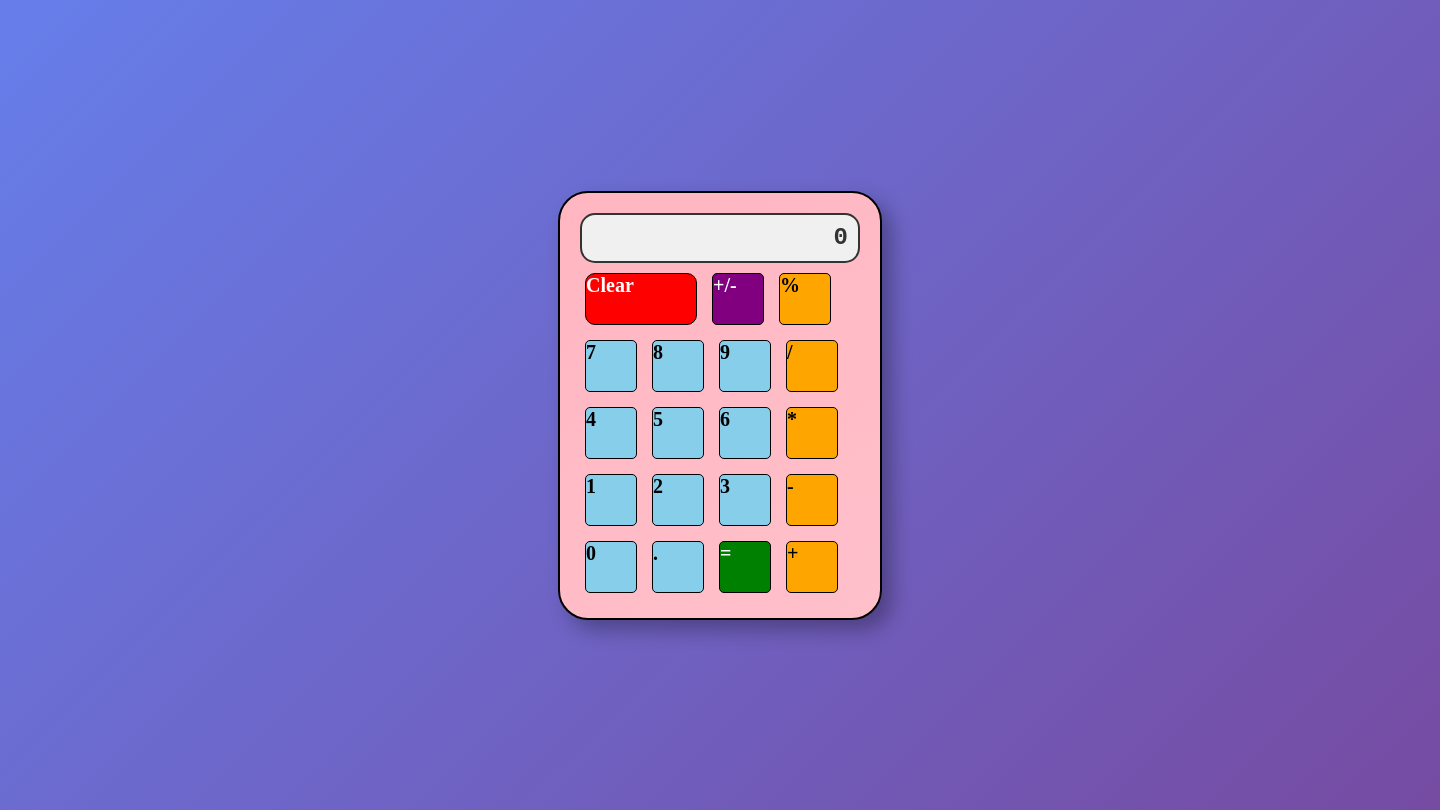
Test case: Calculator Tests › should clear display when Clear button is pressed
Click the text "1": click(611, 500) [585,474,637,526]
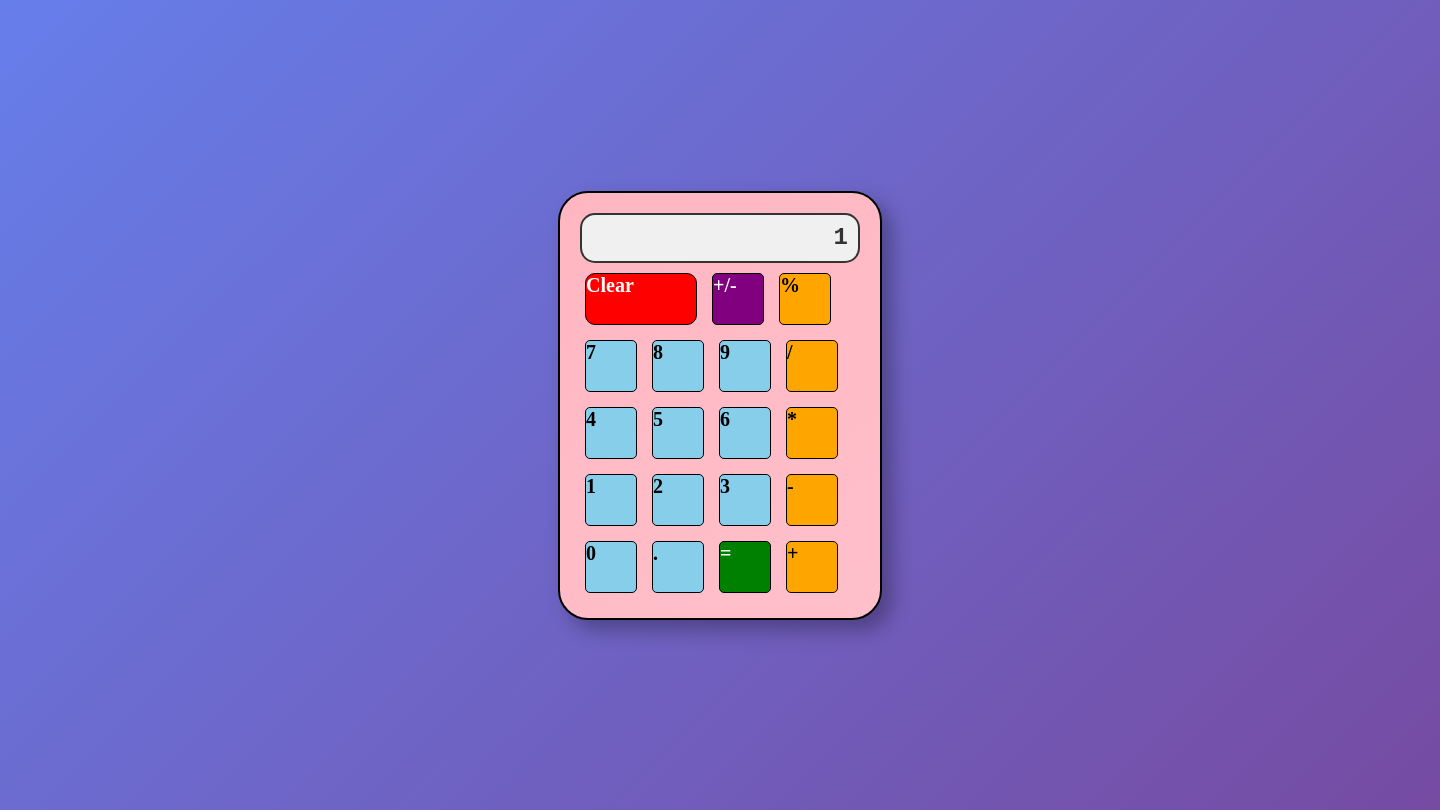
Click the text "2": click(678, 500) [652,474,704,526]
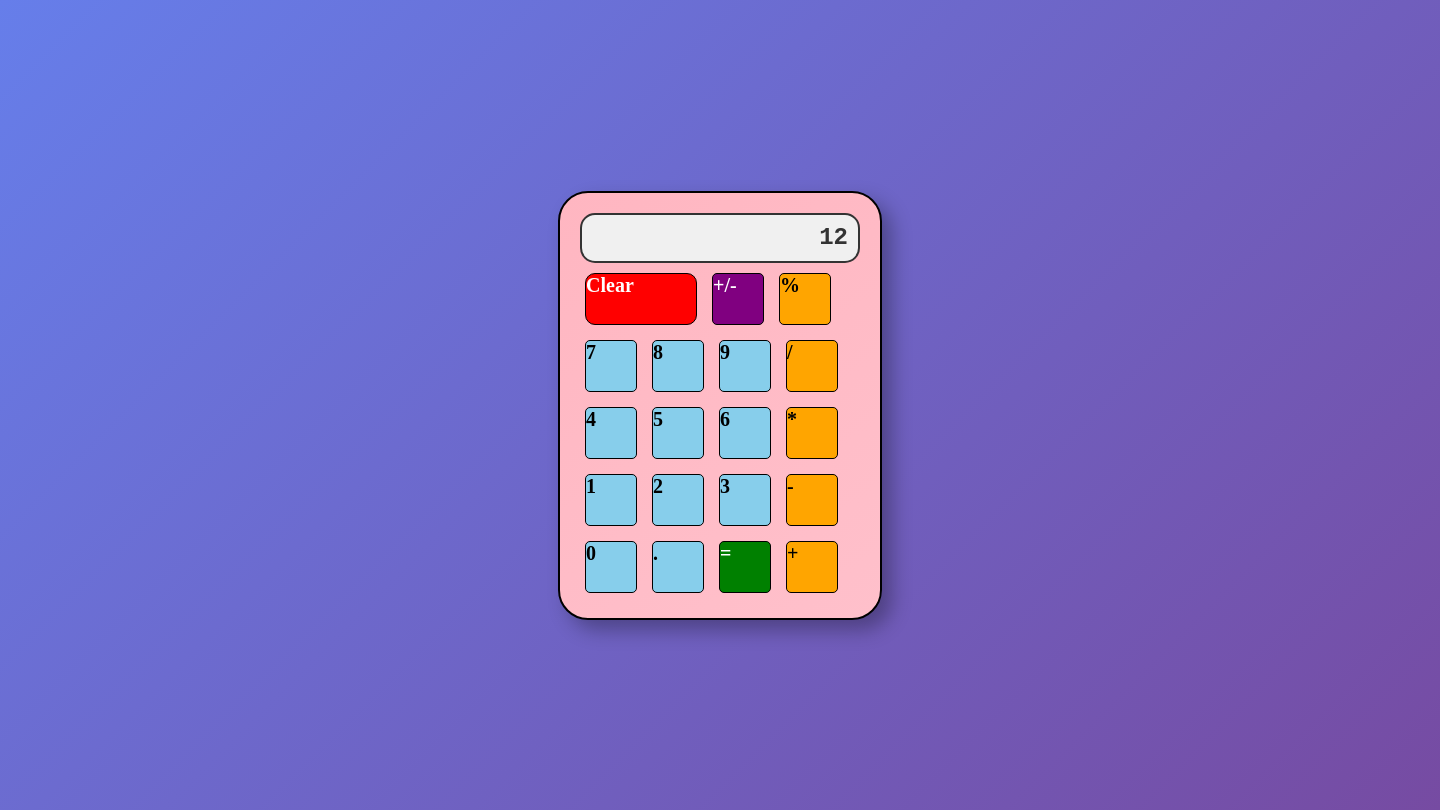
Click the text "3": click(745, 500) [719,474,771,526]
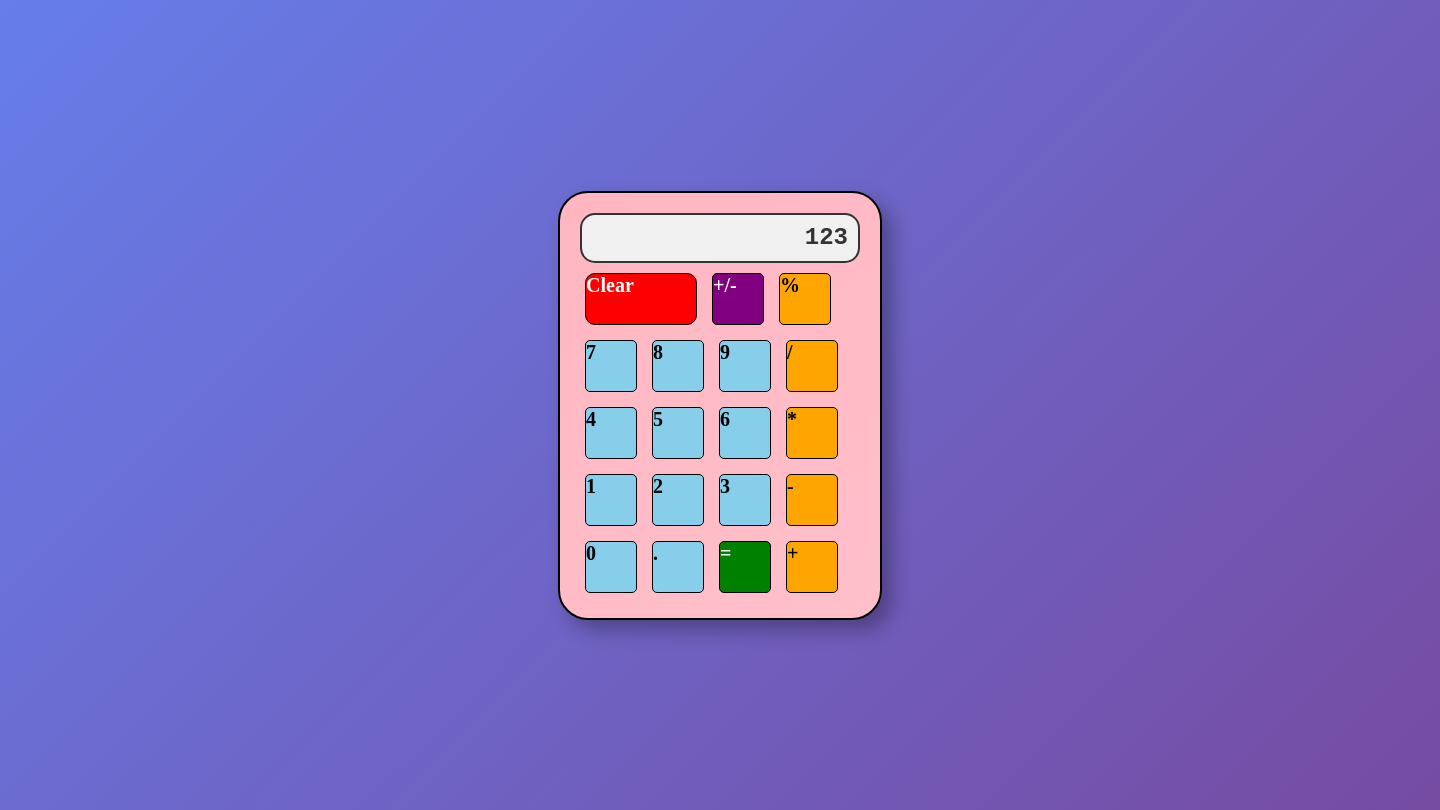
Click the text "Clear": click(641, 298) [585,272,697,324]
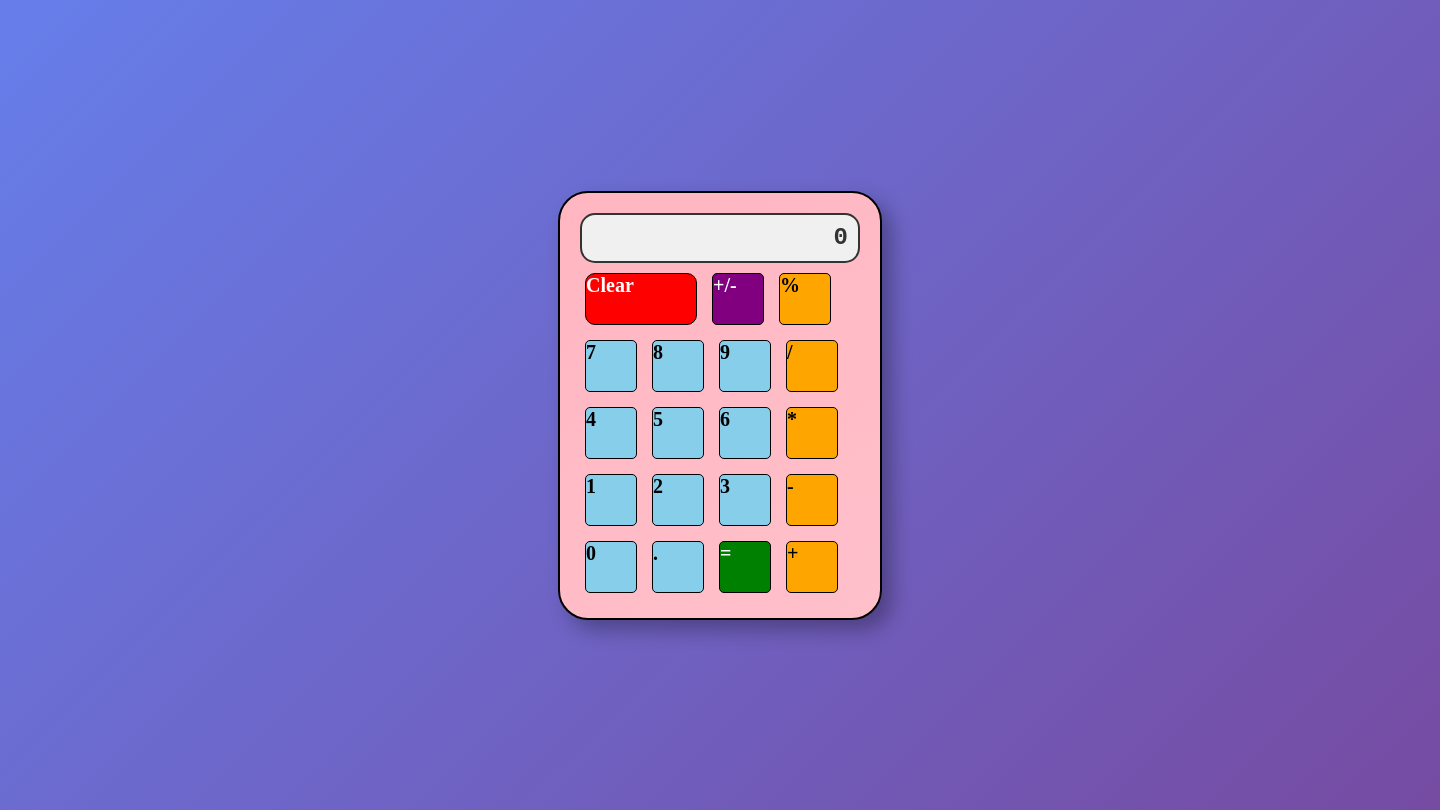
Now the field showing "0" is shown, box [580,212,860,262]
